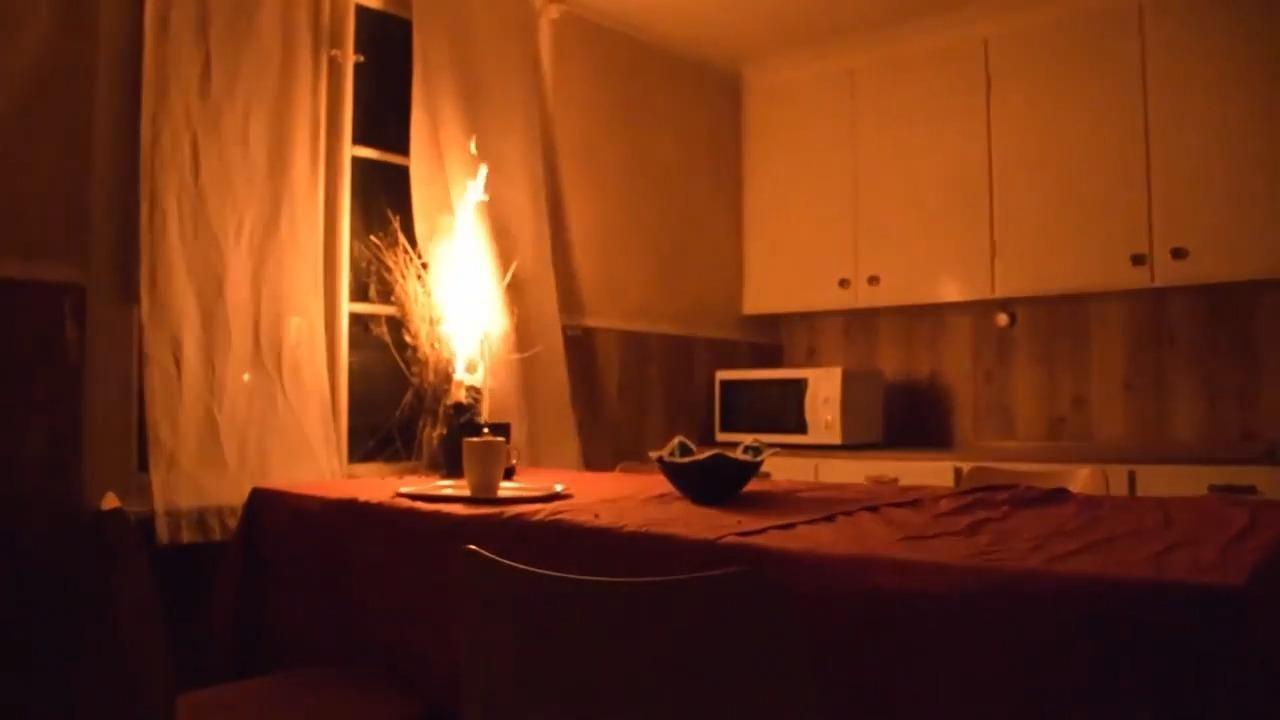fire: (402, 125, 551, 413)
